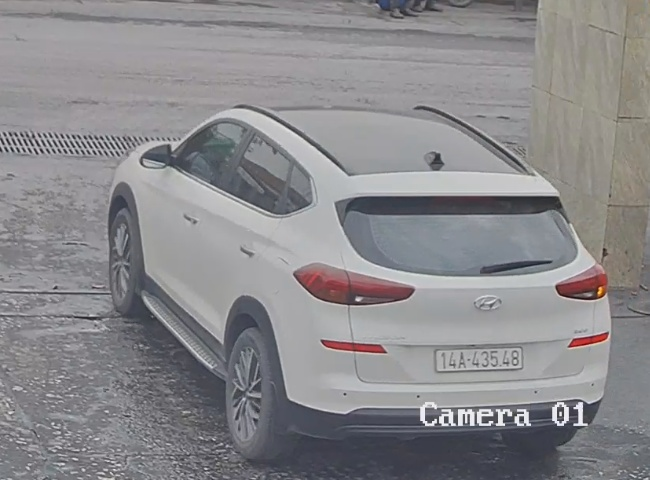vehicle plate: (432, 343, 529, 373)
